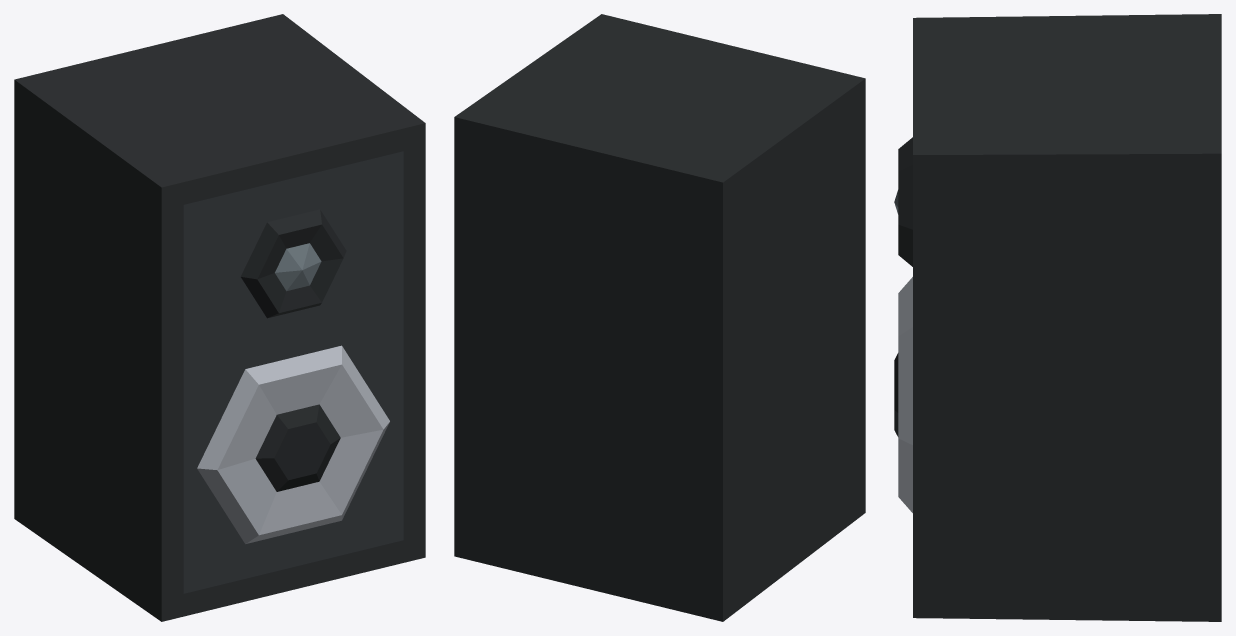
The model's file is SM_Prop_Electronics_Speaker_02.glb.
3 renders of one model, left to right at view 1: azimuth 30°, elevation 25°; view 2: azimuth 150°, elevation 25°; view 3: azimuth 270°, elevation 25°, orthographic. The views are drawn at different scales.
Visible parts, largest first — view 1: SM_Prop_Electronics_Speaker_02; view 2: SM_Prop_Electronics_Speaker_02; view 3: SM_Prop_Electronics_Speaker_02.
Boxes of the visible parts, x1,y1,x2,y2 form: SM_Prop_Electronics_Speaker_02: (14, 14, 425, 621); SM_Prop_Electronics_Speaker_02: (454, 14, 865, 621); SM_Prop_Electronics_Speaker_02: (894, 14, 1221, 621).
Bounding box in the file's own units: 0.309 × 0.4827 × 0.3061.
Materials: 1 (1 with a texture image).
